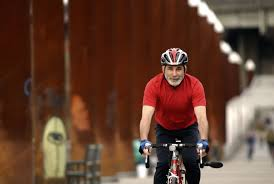helmet: (160, 48, 188, 87)
